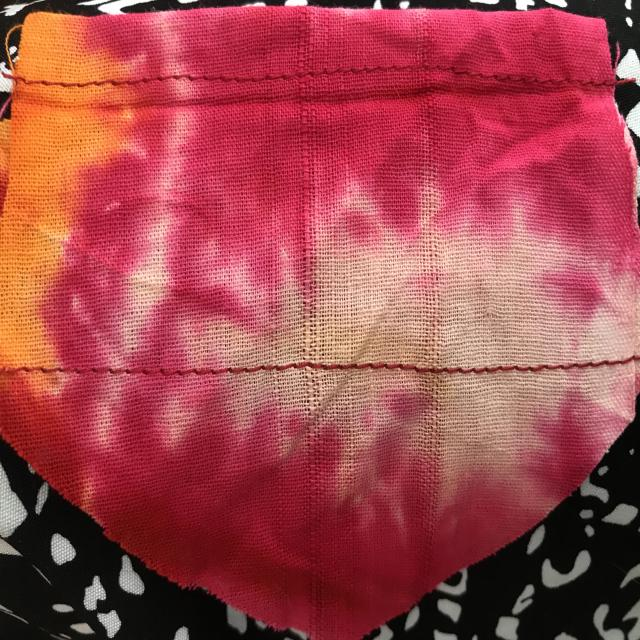good: (466, 356, 542, 387), (369, 355, 438, 378)
